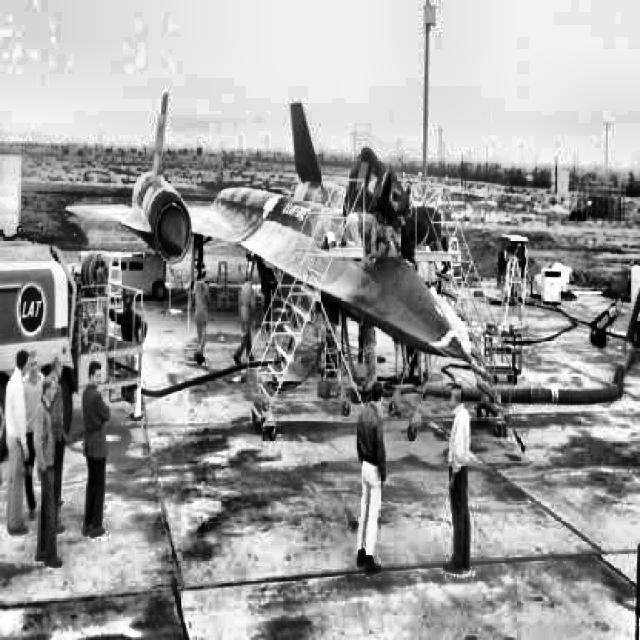SR71: (65, 92, 497, 386)
